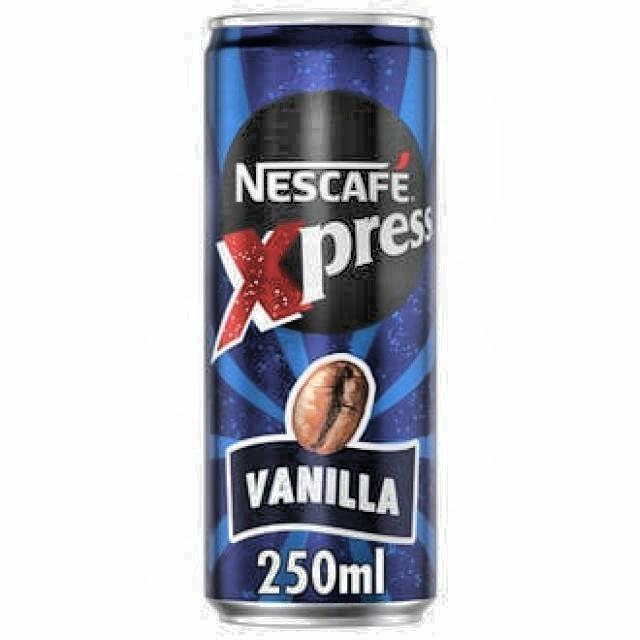metal: (202, 13, 442, 634)
